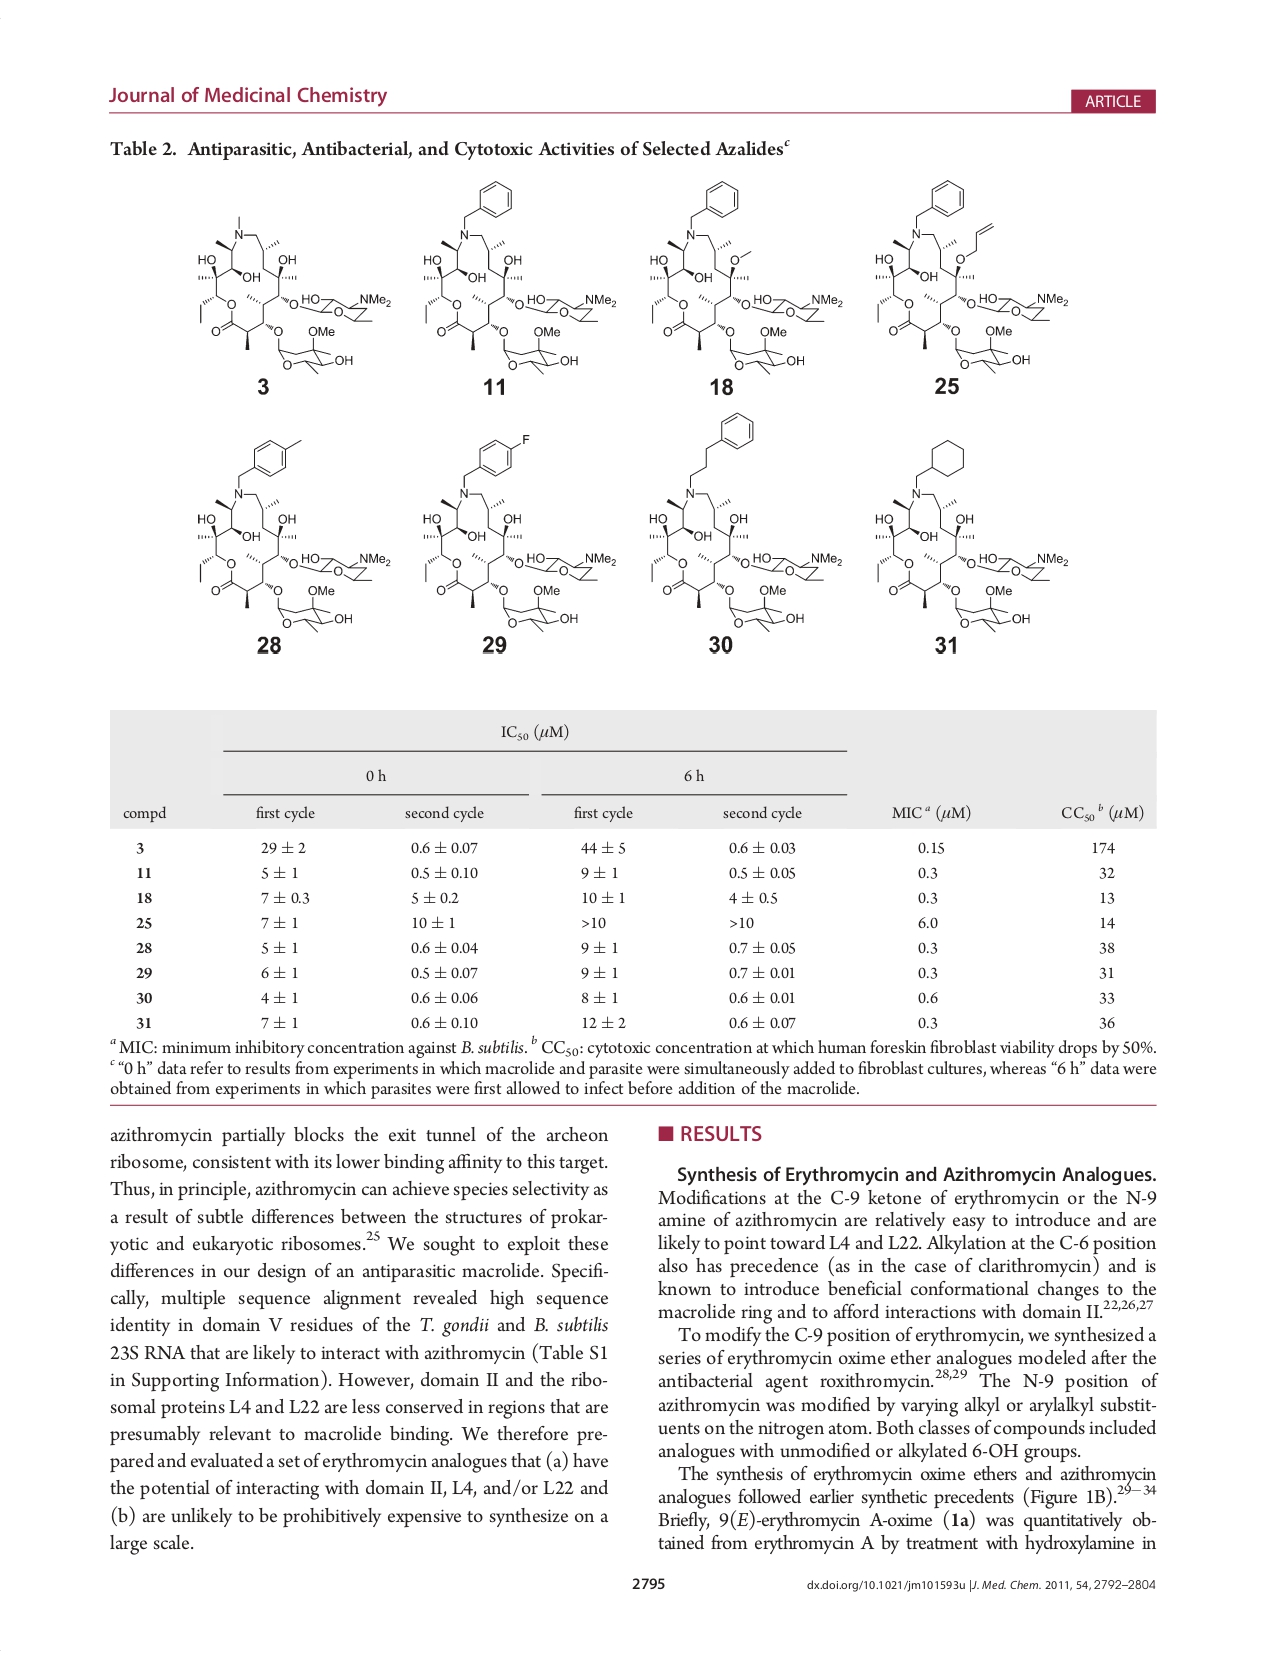exist_molecular: (644, 410, 844, 632), (422, 430, 618, 634), (868, 436, 1071, 634), (191, 436, 394, 633), (419, 180, 618, 376), (648, 180, 844, 376), (871, 177, 1069, 372), (190, 213, 394, 376)
